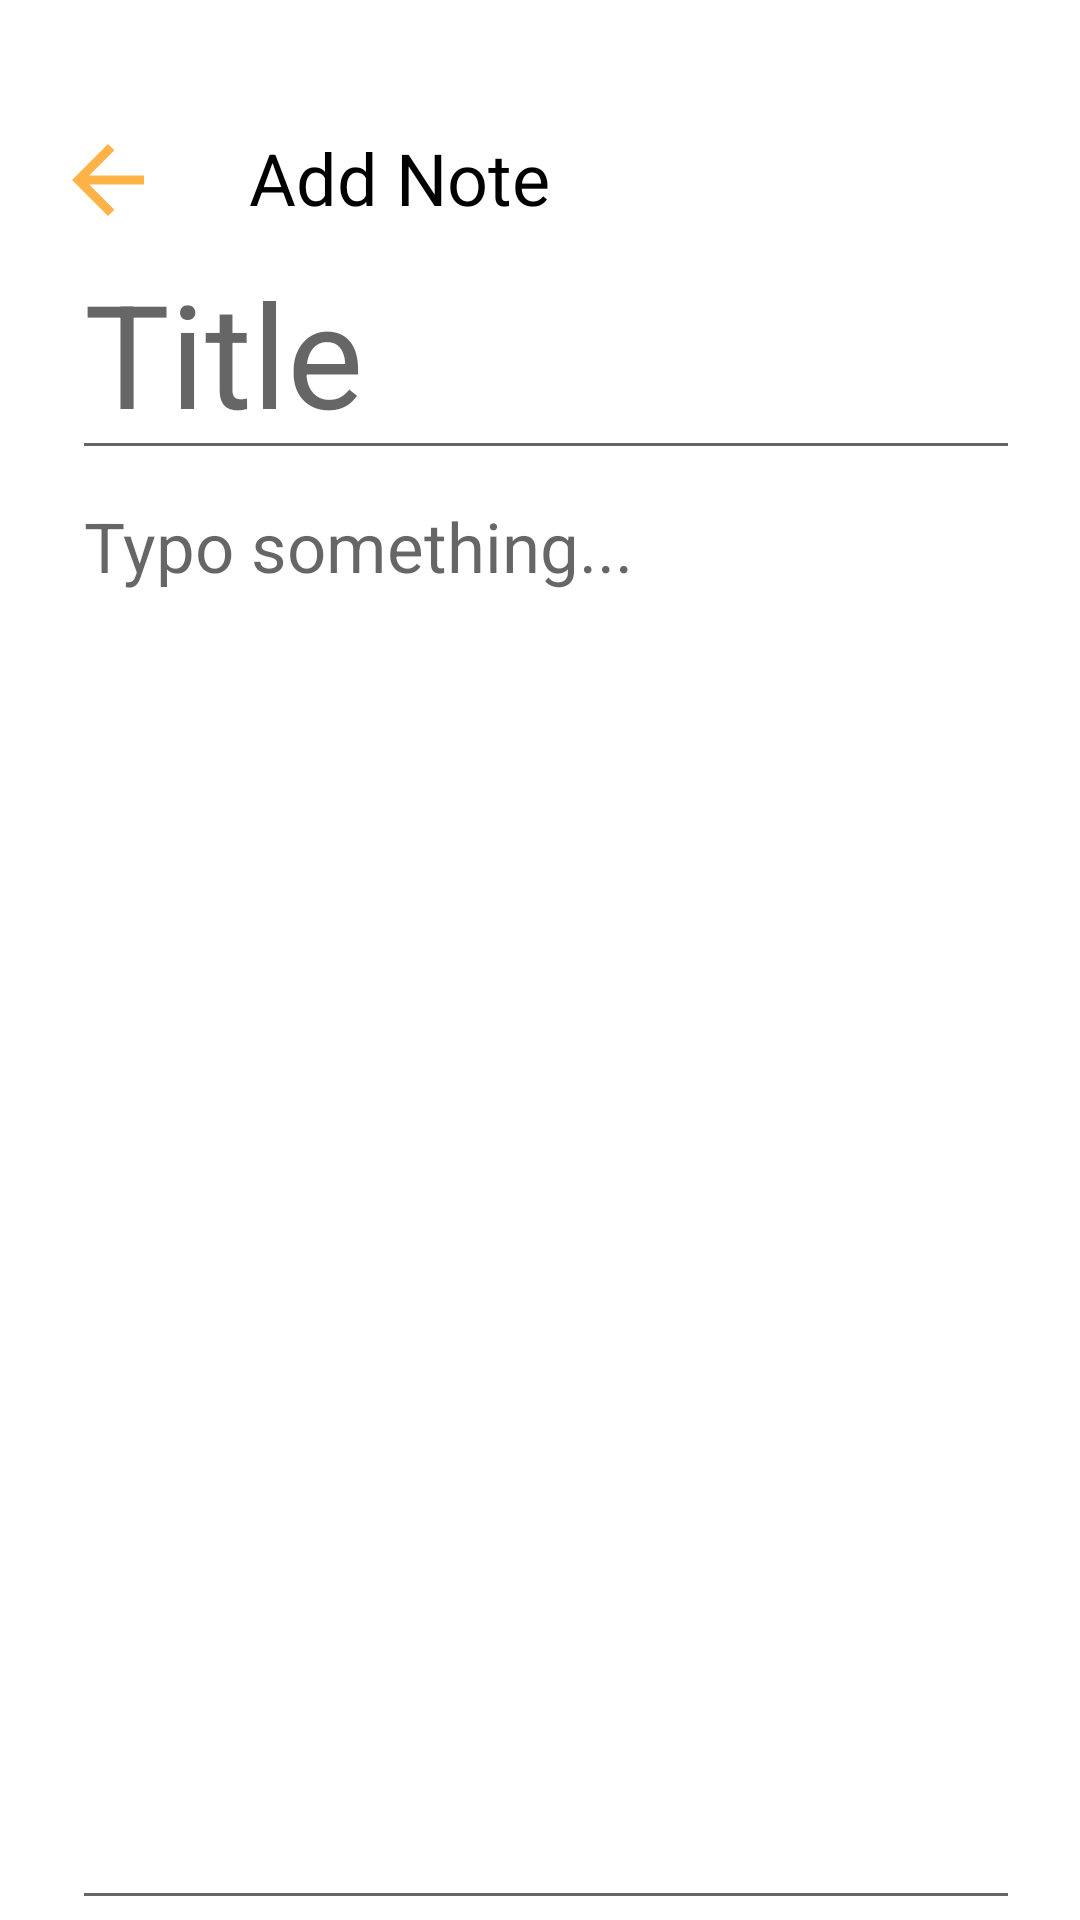

Screen size 1080*1920. Icon name, then its box in pixels as (left=x1, top=y1, right=x2, bottom=y2):
arrow back: (left=72, top=144, right=144, bottom=216)
